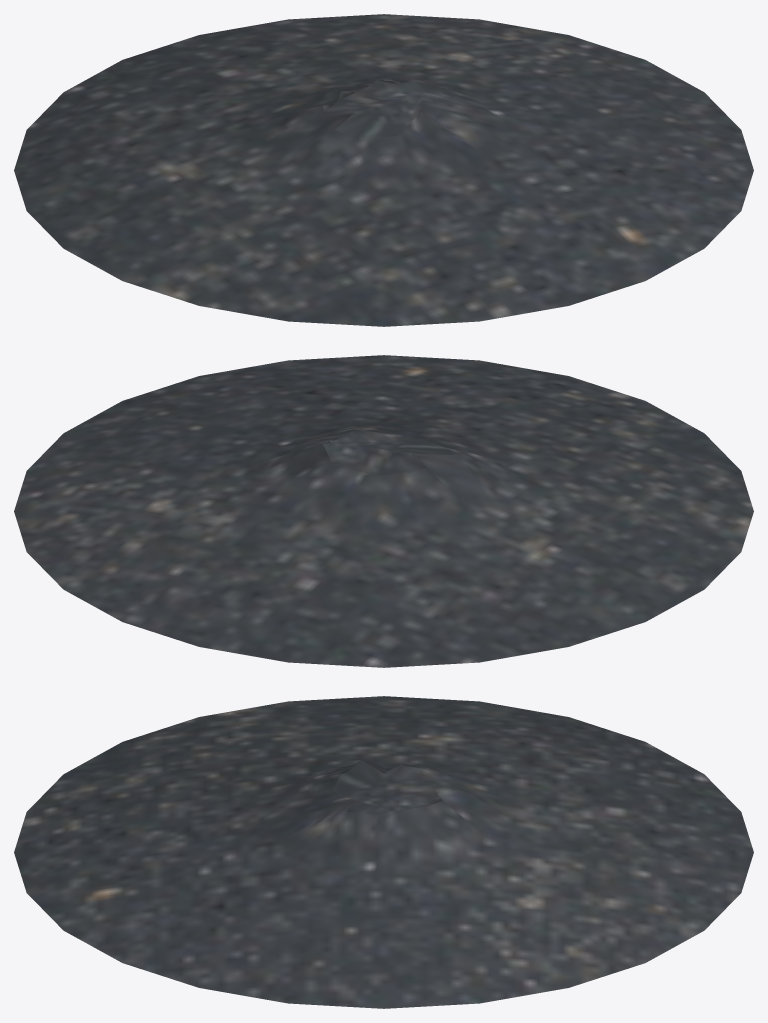
The model's file is IronSand.FBX.
The picture shows the model from 3 angles, top to bottom: view 1: azimuth 30°, elevation 25°; view 2: azimuth 150°, elevation 25°; view 3: azimuth 270°, elevation 25°; orthographic projection.
Parts seen in each view (by area): view 1: Cone001; view 2: Cone001; view 3: Cone001.
Boxes of the visible parts, left/top/right/bottom form: Cone001: left=14, top=14, right=753, bottom=326; Cone001: left=14, top=355, right=753, bottom=667; Cone001: left=14, top=696, right=753, bottom=1008.
Size of the model in its own units: 60 by 5.98 by 60.
Materials: 1 (1 with a texture image).
